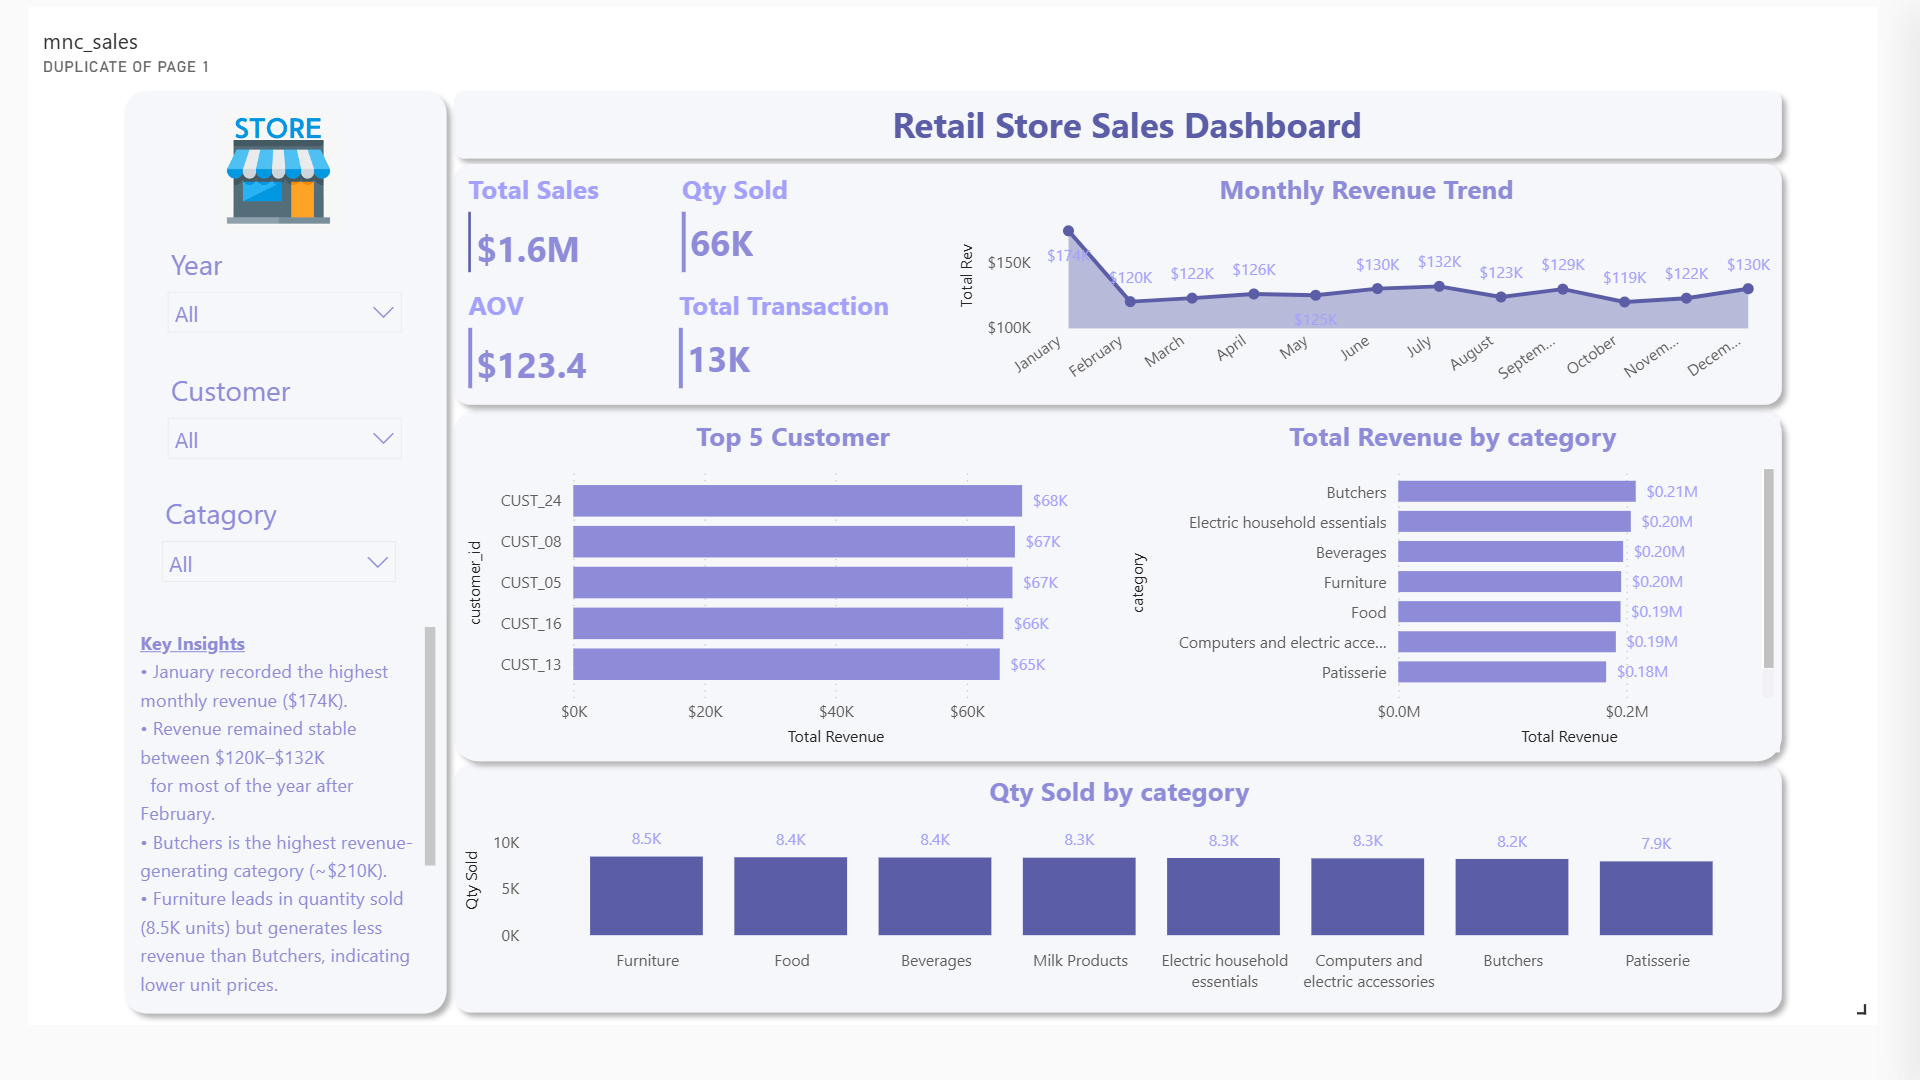

The dashboard page shown, as its layout file describes it:
{"tool":"powerbi","page":{"name":"Duplicate of Page 1","canvas":[1280,720],"ordinal":0},"visuals":[{"type":"shape","box":[251.4,512.5,1029.2,206.9],"z":0},{"type":"shape","box":[251.4,241.7,1029.2,286.1],"z":1000},{"type":"shape","box":[251.4,0,1029.2,69.4],"z":2000},{"type":"shape","box":[251.4,55.6,1029.2,201.4],"z":3000},{"type":"shape","box":[0,0,263.5,720.4],"z":4000},{"type":"cardVisual","title":"Total Sales","fields":{"Data":["sales_data_clean.Total Revenue"]},"box":[266.7,70,129.2,83.3],"z":5000},{"type":"cardVisual","title":"Qty Sold","fields":{"Data":["sales_data_clean.Total Quantity Sold"]},"box":[428.9,70,116.7,83.3],"z":6000},{"type":"cardVisual","title":"Total Transaction","fields":{"Data":["sales_data_clean.Total Tranasction Count"]},"box":[426.7,157.8,175,83.3],"z":7000},{"type":"cardVisual","title":"AOV","fields":{"Data":["sales_data_clean.Avg Order Value"]},"box":[265.8,157.8,129.2,83.3],"z":8000},{"type":"areaChart","title":"Monthly Revenue Trend","fields":{"Category":["sales_data_clean.transaction_date.Variation.Date Hierarchy.Month"],"Y":["sales_data_clean.Total Revenue"]},"box":[640.3,69.4,629.2,172.2],"z":9000},{"type":"clusteredColumnChart","fields":{"Category":["sales_data_clean.catagory"],"Y":["sales_data_clean.Total Quantity Sold"]},"box":[263.9,527.8,1005.6,175],"z":10000},{"type":"slicer","fields":{"Values":["sales_data_clean.transaction_date.Variation.Date Hierarchy.Year"]},"box":[31.9,120.8,198.6,88.9],"z":11000},{"type":"slicer","fields":{"Values":["sales_data_clean.catagory"]},"box":[27.8,311.1,198.6,73.6],"z":12000},{"type":"slicer","fields":{"Values":["sales_data_clean.customer_id"]},"box":[31.9,216.7,198.6,81.9],"z":13000},{"type":"clusteredBarChart","fields":{"Category":["sales_data_clean.catagory"],"Y":["sales_data_clean.Total Revenue"]},"box":[770.8,256.9,498.6,255.6],"z":14000},{"type":"clusteredBarChart","title":"Top 5 Customer","fields":{"Category":["sales_data_clean.customer_id"],"Y":["sales_data_clean.Total Revenue"]},"box":[266.7,256.9,504.2,255.6],"z":15000},{"type":"image","box":[75,18.1,102.8,102.8],"z":16000},{"type":"textbox","box":[293.1,11.1,958.3,45.8],"z":17000},{"type":"textbox","box":[16.7,412.5,234.7,290.3],"z":18000}]}

Visuals, with their boxes on the page's 1280x720 design canvas (x1, y1, x2, y2). These are canvas units, not pixel positions in the 1920x1080 screenshot, which may show the page scaled, cropped or inside an application window:
shape: <box>251,512,1281,719</box>
shape: <box>251,242,1281,528</box>
shape: <box>251,0,1281,69</box>
shape: <box>251,56,1281,257</box>
shape: <box>0,0,264,720</box>
"Total Sales" cardVisual: <box>267,70,396,153</box>
"Qty Sold" cardVisual: <box>429,70,546,153</box>
"Total Transaction" cardVisual: <box>427,158,602,241</box>
"AOV" cardVisual: <box>266,158,395,241</box>
"Monthly Revenue Trend" areaChart: <box>640,69,1270,242</box>
clusteredColumnChart - sales_data_clean.catagory x sales_data_clean.Total Quantity Sold: <box>264,528,1270,703</box>
slicer - sales_data_clean.transaction_date.Variation.Date Hierarchy.Year: <box>32,121,230,210</box>
slicer - sales_data_clean.catagory: <box>28,311,226,385</box>
slicer - sales_data_clean.customer_id: <box>32,217,230,299</box>
clusteredBarChart - sales_data_clean.catagory x sales_data_clean.Total Revenue: <box>771,257,1269,512</box>
"Top 5 Customer" clusteredBarChart: <box>267,257,771,512</box>
image: <box>75,18,178,121</box>
textbox: <box>293,11,1251,57</box>
textbox: <box>17,412,251,703</box>
